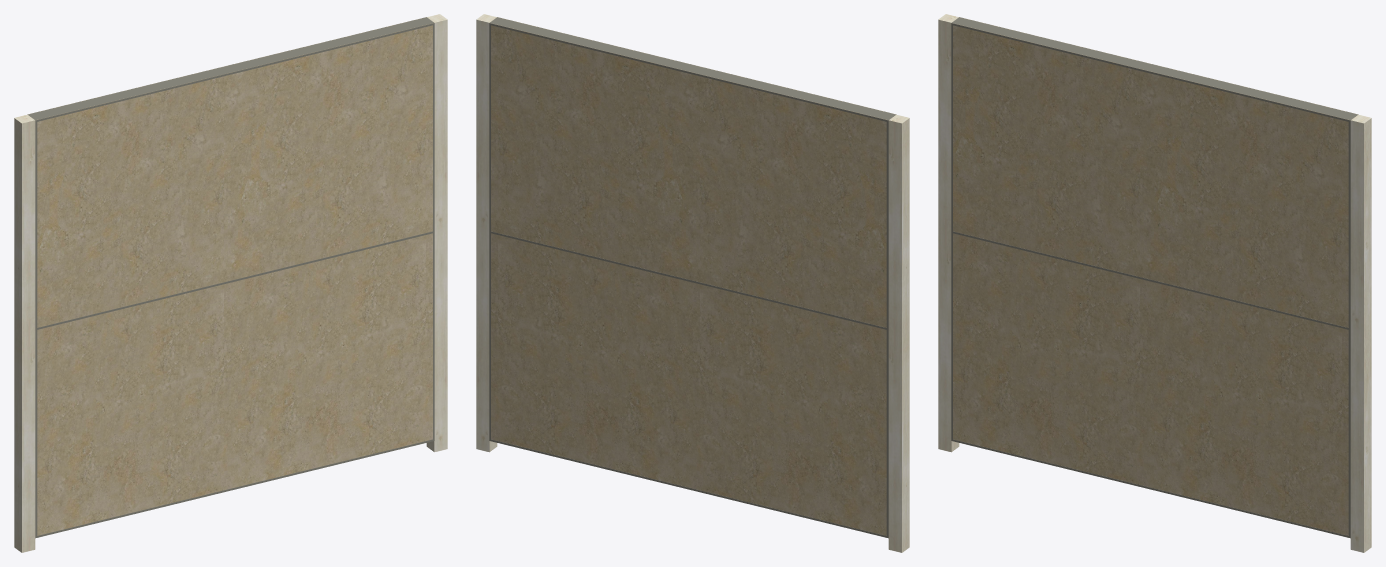
The model's file is ABF3-H1800_travertine.fbx.
3 renders of one model, left to right at view 1: azimuth 30°, elevation 25°; view 2: azimuth 150°, elevation 25°; view 3: azimuth 330°, elevation 25°, orthographic.
Parts seen in each view (by area): view 1: 1850-1920-60_travertine; view 2: 1850-1920-60_travertine; view 3: 1850-1920-60_travertine.
Part boxes in pixels (bbox=[...]): 1850-1920-60_travertine: bbox=[14, 14, 447, 552]; 1850-1920-60_travertine: bbox=[476, 14, 909, 552]; 1850-1920-60_travertine: bbox=[938, 14, 1371, 552].
Size of the model in its own units: 192 by 185 by 6.4.
Materials: 5 (4 with a texture image).
